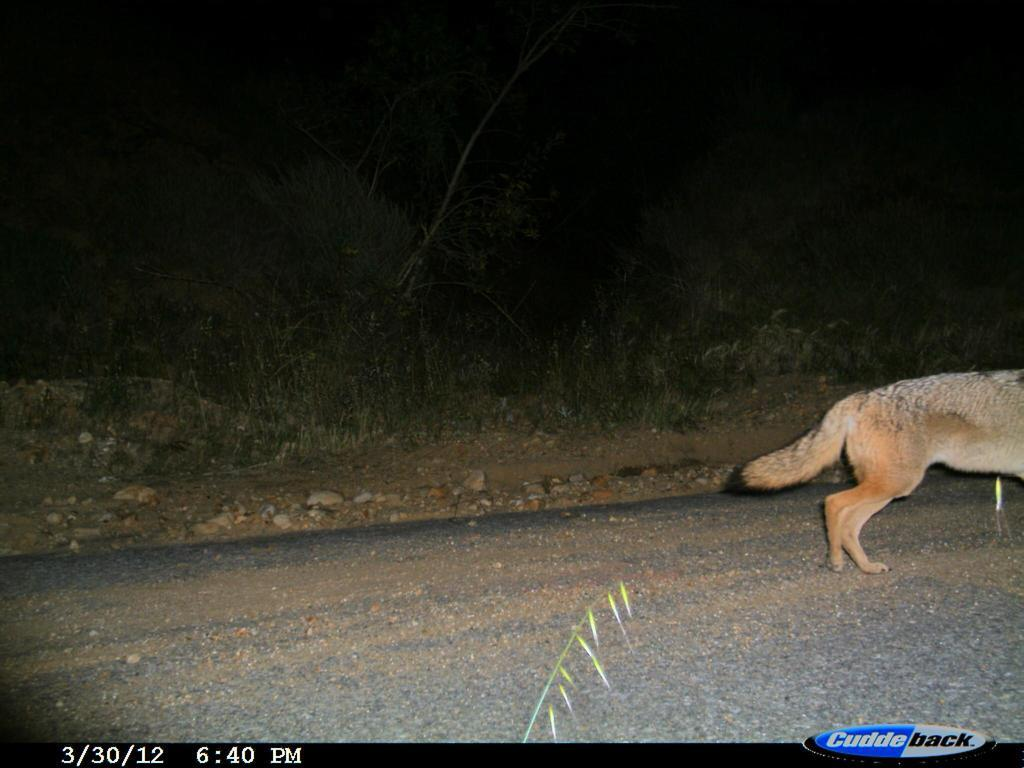coyote: (731, 349, 1022, 591)
